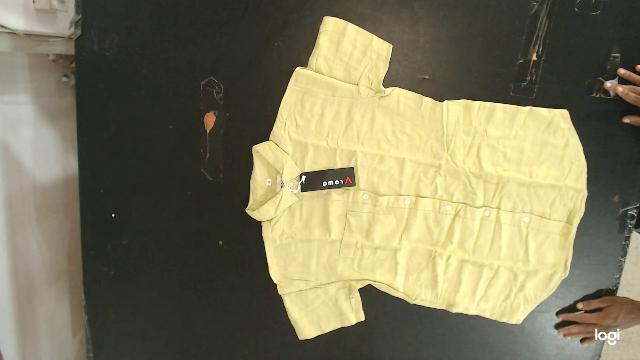new-garment: (246, 16, 586, 339)
